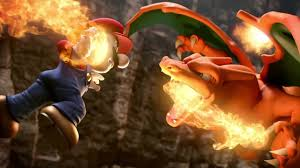charizard: (136, 2, 300, 166)
